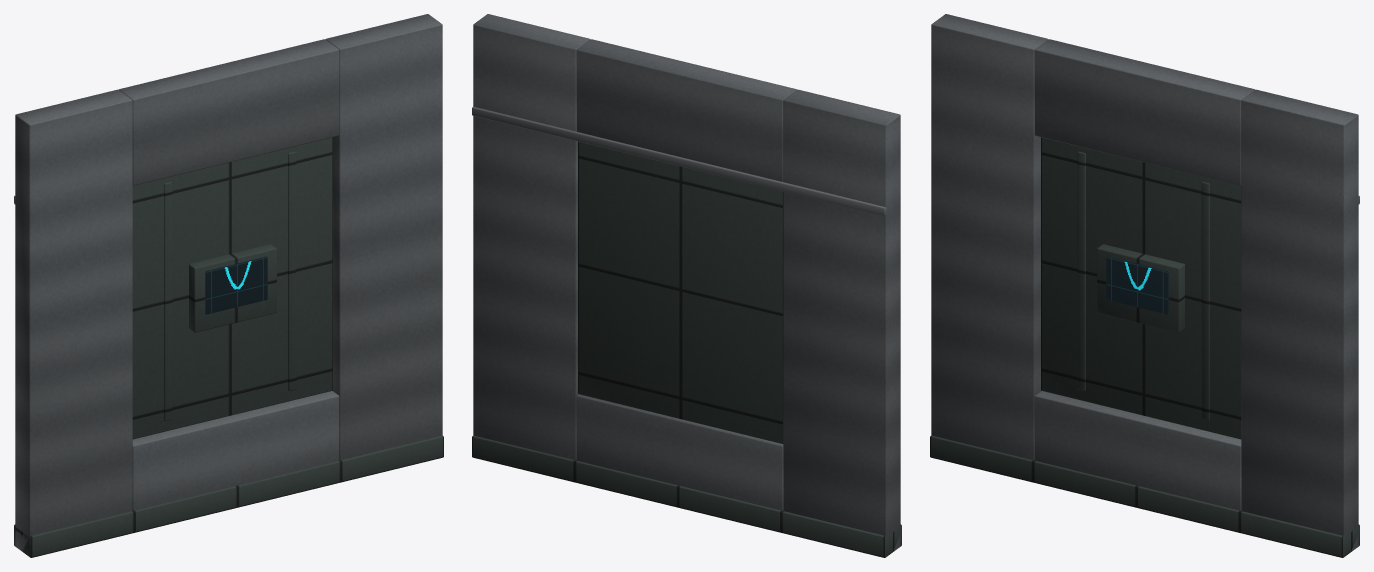
The model's file is WK_WALL_PANEL_B_01.glb.
3 renders of one model, left to right at view 1: azimuth 30°, elevation 25°; view 2: azimuth 150°, elevation 25°; view 3: azimuth 330°, elevation 25°, orthographic.
Visible parts, largest first — view 1: WK_WALL_PANEL_B_01; view 2: WK_WALL_PANEL_B_01; view 3: WK_WALL_PANEL_B_01.
Part boxes in pixels (left/top/right/bottom): WK_WALL_PANEL_B_01: left=14, top=14, right=443, bottom=557; WK_WALL_PANEL_B_01: left=472, top=14, right=901, bottom=557; WK_WALL_PANEL_B_01: left=930, top=14, right=1359, bottom=557.
Bounding box in the file's own units: 4 × 4 × 0.29.
Materials: 4 (3 with a texture image).
